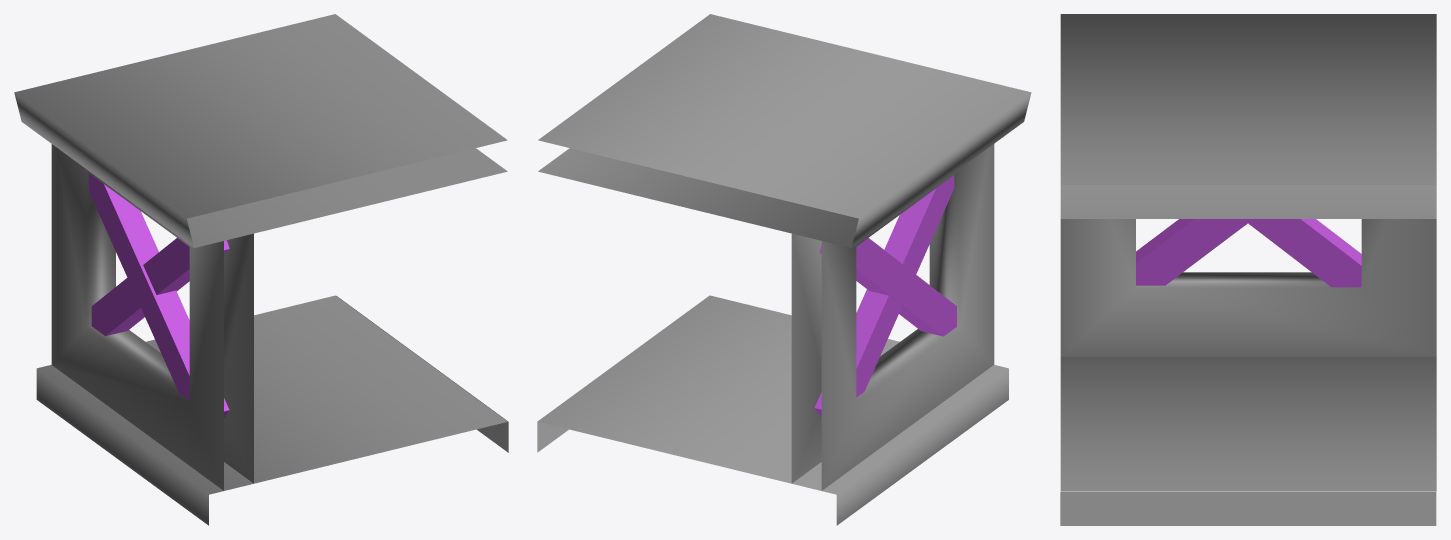
The picture shows the model from 3 angles, left to right: view 1: azimuth 30°, elevation 25°; view 2: azimuth 150°, elevation 25°; view 3: azimuth 270°, elevation 25°; orthographic projection. The views are drawn at different scales.
Parts seen in each view (by area): view 1: objobjobjRegroup09; view 2: objobjobjRegroup09; view 3: objobjobjRegroup09.
Boxes of the visible parts, x1,y1,x2,y2 form: objobjobjRegroup09: [14, 14, 508, 525]; objobjobjRegroup09: [537, 14, 1031, 525]; objobjobjRegroup09: [1060, 14, 1436, 525].
Size of the model in its own units: 10.77 by 10 by 10.01.
